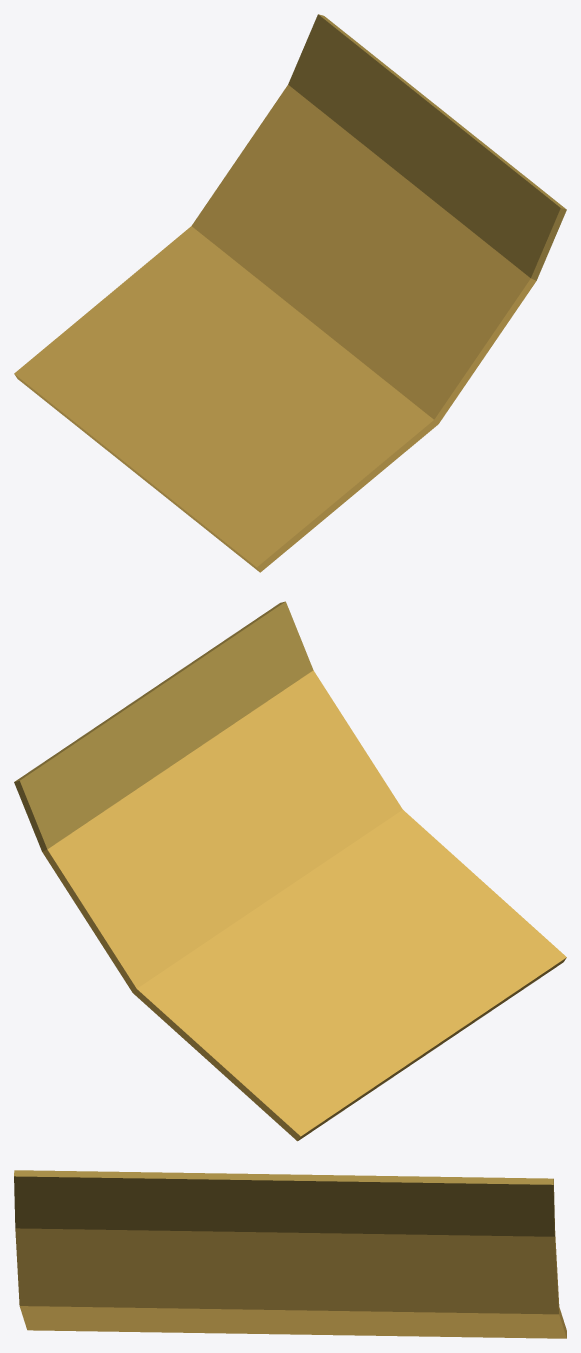
Rendered from Post it.fbx.
3 views of the same model, one above another, from view 1: azimuth 30°, elevation 25°; view 2: azimuth 150°, elevation 25°; view 3: azimuth 270°, elevation 25° (orthographic). The views are drawn at different scales.
Visible parts, largest first — view 1: Plane.019; view 2: Plane.019; view 3: Plane.019.
Part boxes in pixels (<box>): Plane.019: <box>14,14,566,572</box>; Plane.019: <box>14,601,566,1141</box>; Plane.019: <box>14,1170,566,1338</box>.
Bounding box in the file's own units: 49.36 × 43.82 × 70.94.
